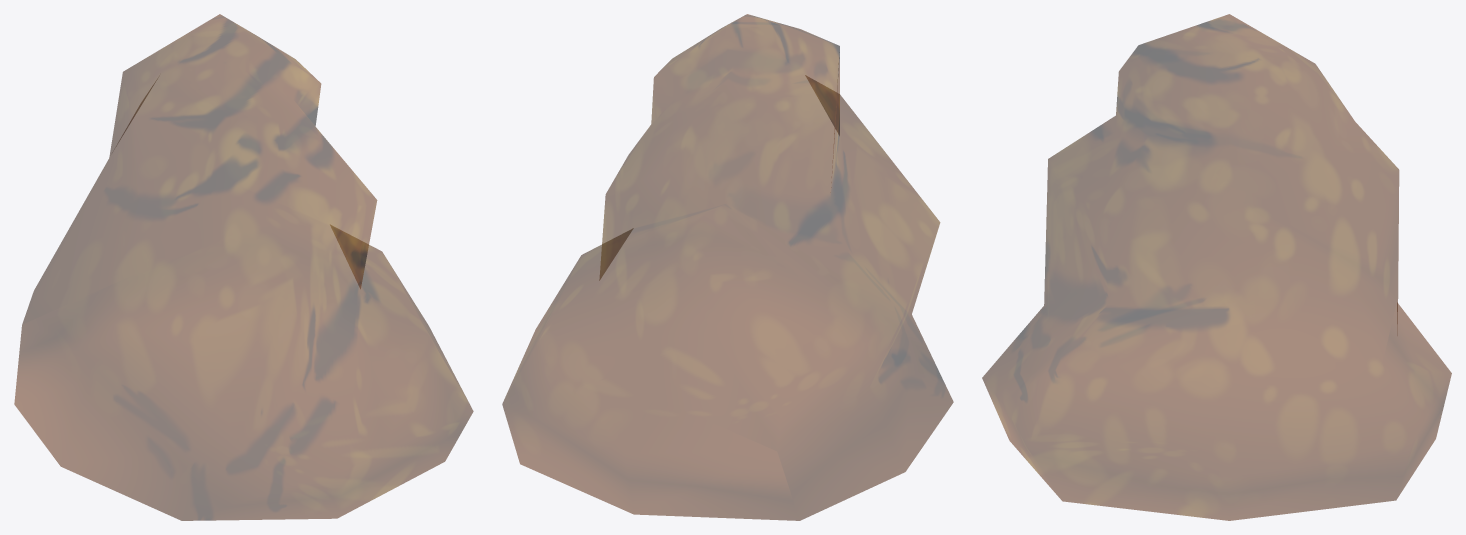
Rendered from poop with textures .fbx.
3 renders of one model, left to right at view 1: azimuth 30°, elevation 25°; view 2: azimuth 150°, elevation 25°; view 3: azimuth 270°, elevation 25°, orthographic.
Parts seen in each view (by area): view 1: Poop; view 2: Poop; view 3: Poop.
Boxes of the visible parts, box(x1,y1,x2,y2) form: Poop: box(14, 14, 473, 520); Poop: box(502, 14, 953, 520); Poop: box(982, 14, 1451, 520).
Size of the model in its own units: 66.1 by 73.13 by 73.53.
1 material, 1 textured.
